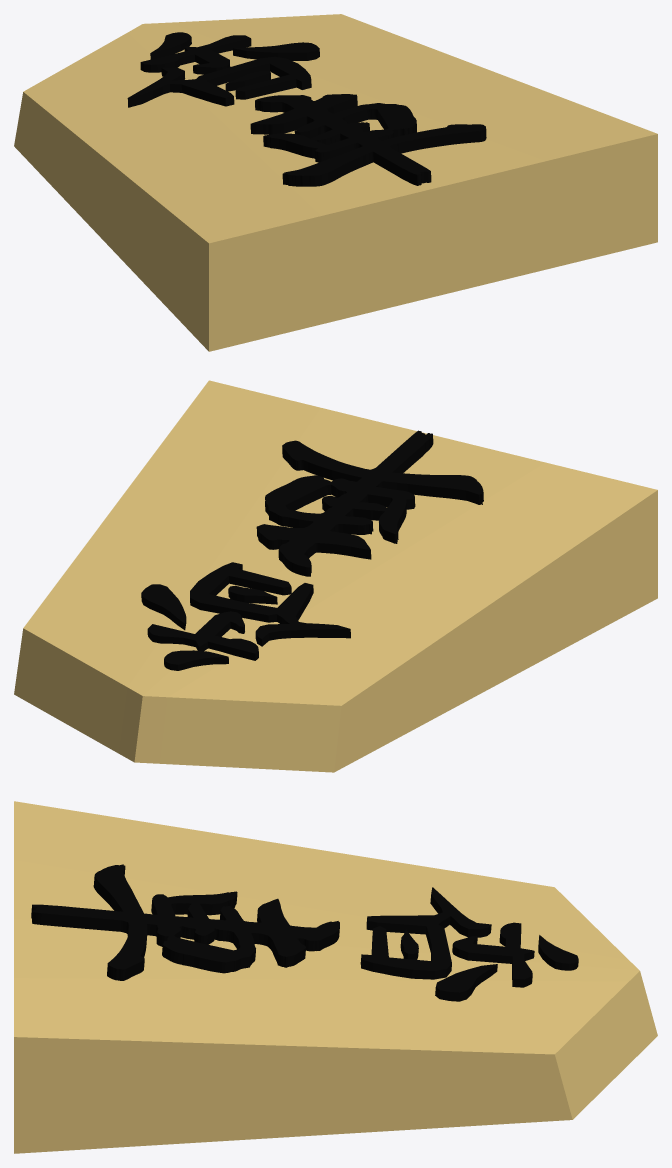
Rendered from Lancier.fbx.
3 renders of one model, top to bottom at view 1: azimuth 30°, elevation 25°; view 2: azimuth 150°, elevation 25°; view 3: azimuth 270°, elevation 25°, orthographic. The views are drawn at different scales.
Parts seen in each view (by area): view 1: Lancier; view 2: Lancier; view 3: Lancier.
Part boxes in pixels (x1,y1,x2,y2): Lancier: (14,14,657,351); Lancier: (14,380,657,772); Lancier: (14,801,657,1153).
Size of the model in its own units: 63.4 by 15.93 by 73.15.
